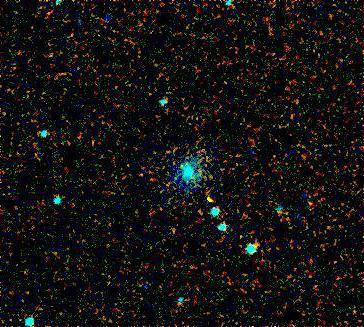star: (196, 184, 226, 214)
